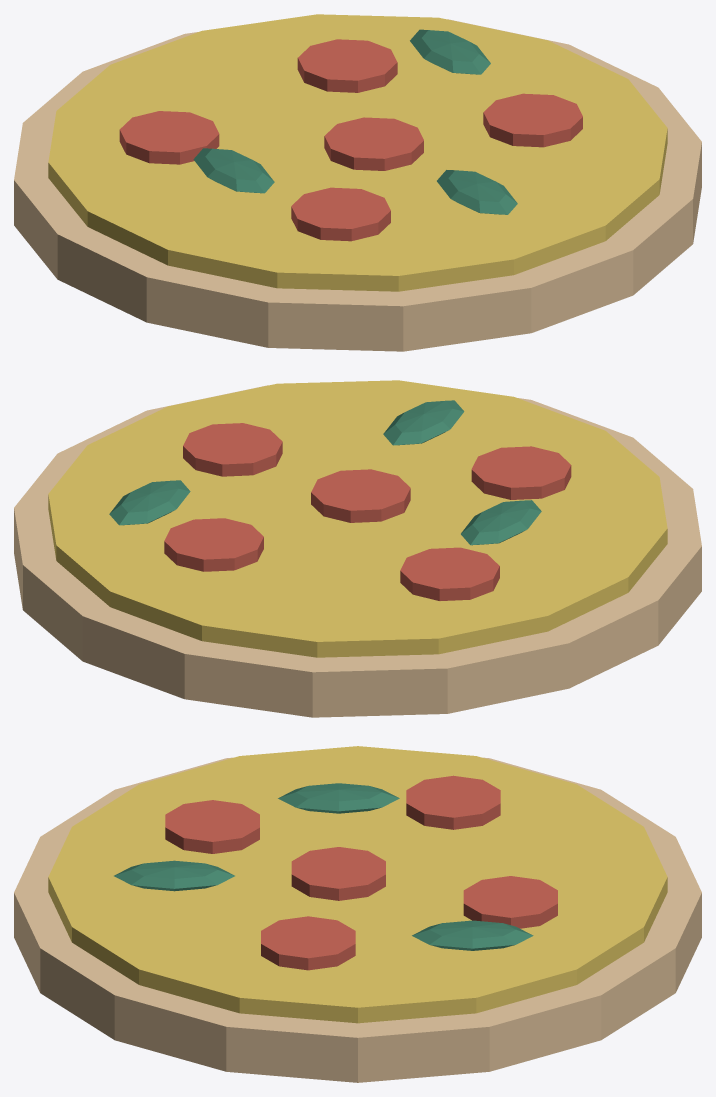
File: pizza.obj
The picture shows the model from 3 angles, top to bottom: view 1: azimuth 30°, elevation 25°; view 2: azimuth 150°, elevation 25°; view 3: azimuth 270°, elevation 25°; orthographic projection.
Parts seen in each view (by area): view 1: stage_2_part_1, stage_1_part_0, stage_3_part_3, stage_3_part_6, stage_3_part_4, stage_3_part_5, stage_3_part_2, stage_4_part_9, stage_4_part_7, stage_4_part_8; view 2: stage_2_part_1, stage_1_part_0, stage_3_part_5, stage_3_part_4, stage_3_part_2, stage_3_part_3, stage_3_part_6, stage_4_part_8, stage_4_part_7, stage_4_part_9; view 3: stage_2_part_1, stage_1_part_0, stage_3_part_5, stage_3_part_4, stage_3_part_6, stage_3_part_2, stage_3_part_3, stage_4_part_7, stage_4_part_9, stage_4_part_8.
Part boxes in pixels (<box>): stage_2_part_1: <box>48,14,667,291</box>; stage_1_part_0: <box>14,19,701,351</box>; stage_3_part_3: <box>297,39,397,92</box>; stage_3_part_6: <box>324,117,423,170</box>; stage_3_part_4: <box>483,93,582,147</box>; stage_3_part_5: <box>291,187,390,241</box>; stage_3_part_2: <box>119,111,219,164</box>; stage_4_part_9: <box>410,29,490,74</box>; stage_4_part_7: <box>193,148,274,193</box>; stage_4_part_8: <box>437,170,517,214</box>; stage_2_part_1: <box>48,380,667,657</box>; stage_1_part_0: <box>14,385,701,717</box>; stage_3_part_5: <box>471,446,571,499</box>; stage_3_part_4: <box>183,423,282,476</box>; stage_3_part_2: <box>400,547,499,600</box>; stage_3_part_3: <box>164,518,263,571</box>; stage_3_part_6: <box>311,469,410,522</box>; stage_4_part_8: <box>383,400,464,445</box>; stage_4_part_7: <box>461,500,541,545</box>; stage_4_part_9: <box>109,480,190,525</box>; stage_2_part_1: <box>48,746,667,1023</box>; stage_1_part_0: <box>14,757,701,1082</box>; stage_3_part_5: <box>165,800,259,853</box>; stage_3_part_4: <box>261,916,355,970</box>; stage_3_part_6: <box>291,847,385,900</box>; stage_3_part_2: <box>406,775,500,829</box>; stage_3_part_3: <box>463,876,557,928</box>; stage_4_part_7: <box>278,783,399,813</box>; stage_4_part_9: <box>412,920,533,950</box>; stage_4_part_8: <box>114,860,234,891</box>.
Bounding box in the file's own units: 1.8 × 0.24 × 1.8.
